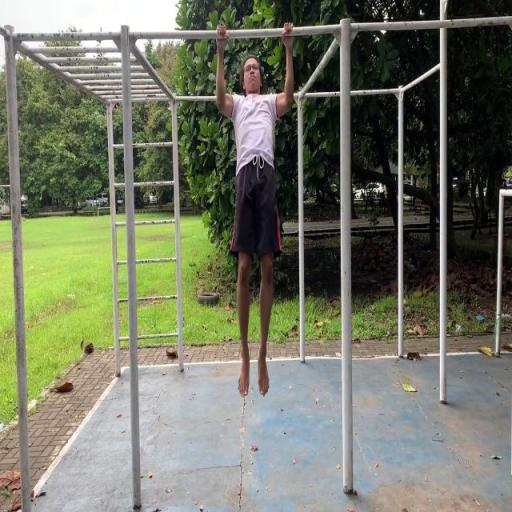Normal_BrenchPress: (214, 20, 296, 400)
